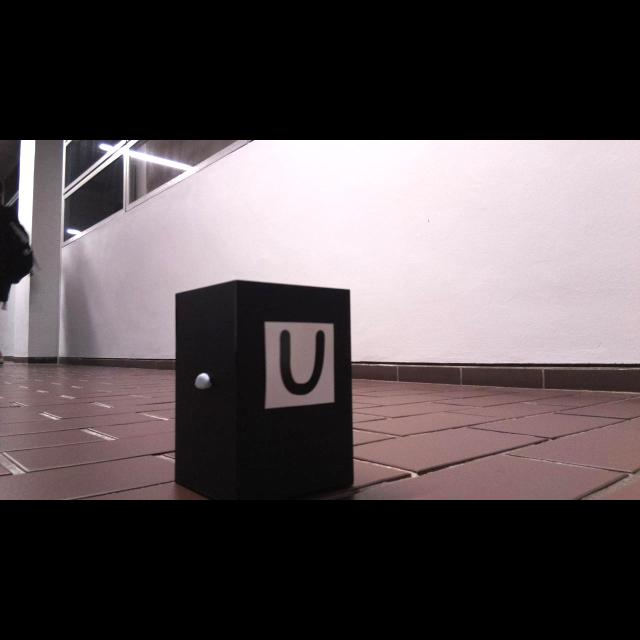U: (280, 330, 325, 395)
